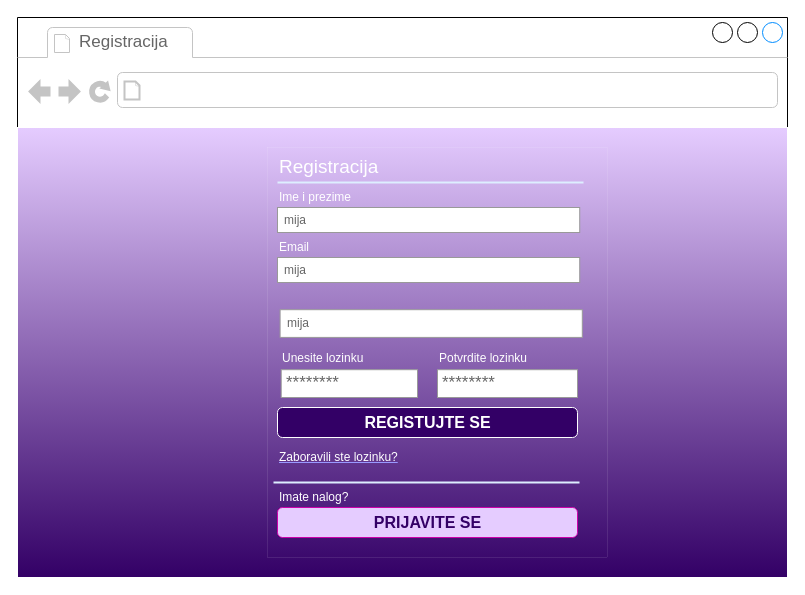
This 805x595 diagram has some shape labels left out. Here are the shapes that lost their labels. From the top down, the box of each, then its label:
(146, 76, 398, 104): http://www.igrannonica.pmf.kg.ac.rs
(279, 286, 450, 310): Korisničko ime
